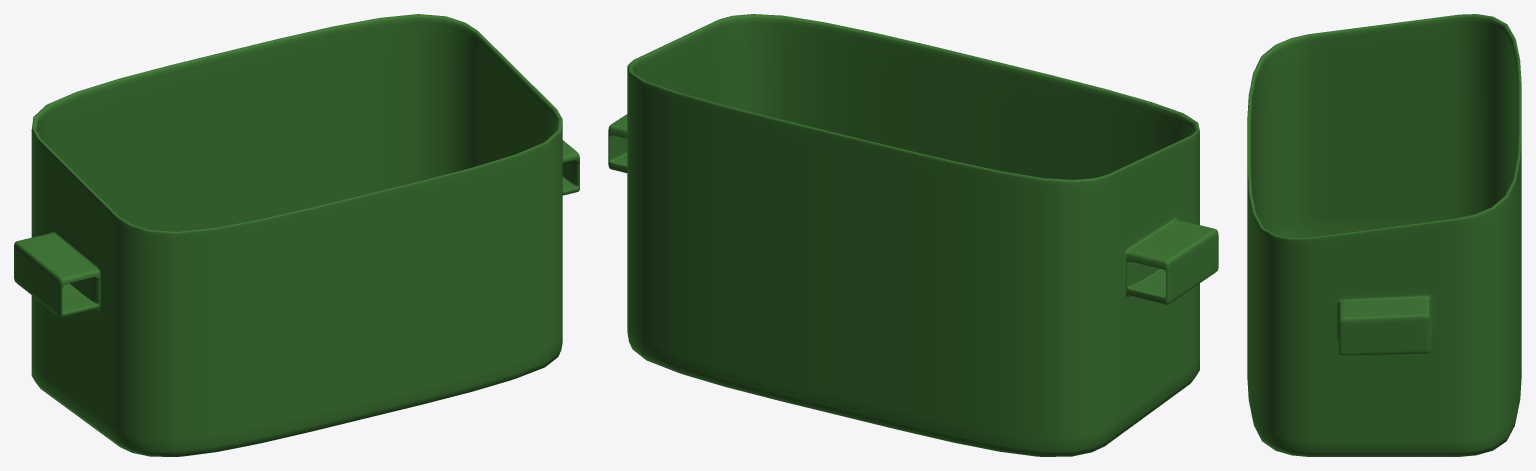
Rendered from Dumpster.fbx.
The picture shows the model from 3 angles, left to right: view 1: azimuth 30°, elevation 25°; view 2: azimuth 150°, elevation 25°; view 3: azimuth 270°, elevation 25°; orthographic projection. The views are drawn at different scales.
Parts seen in each view (by area): view 1: Dumpster; view 2: Dumpster; view 3: Dumpster.
Boxes of the visible parts, box(x1,y1,x2,y2) form: Dumpster: box(14, 14, 579, 456); Dumpster: box(608, 14, 1218, 456); Dumpster: box(1247, 14, 1521, 456).
Bounding box in the file's own units: 405 × 197 × 195.
